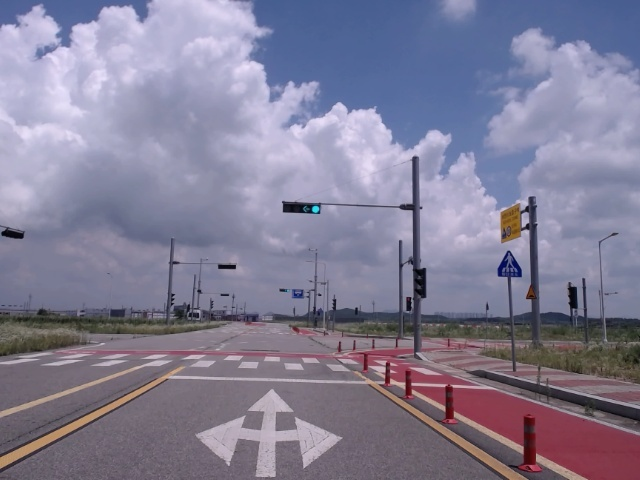all_green_4: (283, 199, 320, 215)
